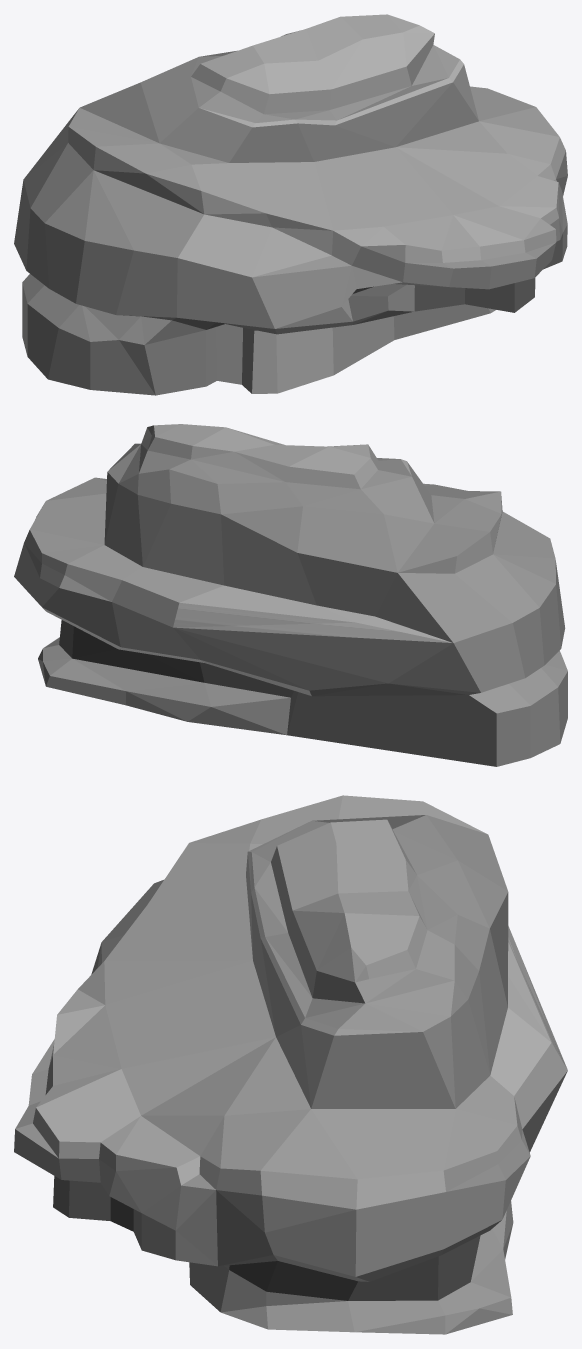
File: woodland-rock.glb
3 views of the same model, one above another, from view 1: azimuth 30°, elevation 25°; view 2: azimuth 150°, elevation 25°; view 3: azimuth 270°, elevation 25° (orthographic). The views are drawn at different scales.
Visible parts, largest first — view 1: EA01_Env_Rock_01a; view 2: EA01_Env_Rock_01a; view 3: EA01_Env_Rock_01a.
Part boxes in pixels (bbox=[...]): EA01_Env_Rock_01a: bbox=[14, 14, 567, 395]; EA01_Env_Rock_01a: bbox=[14, 424, 567, 766]; EA01_Env_Rock_01a: bbox=[14, 795, 567, 1334].
Size of the model in its own units: 11.13 by 5.3 by 7.85.
Materials: 1 (1 with a texture image).
